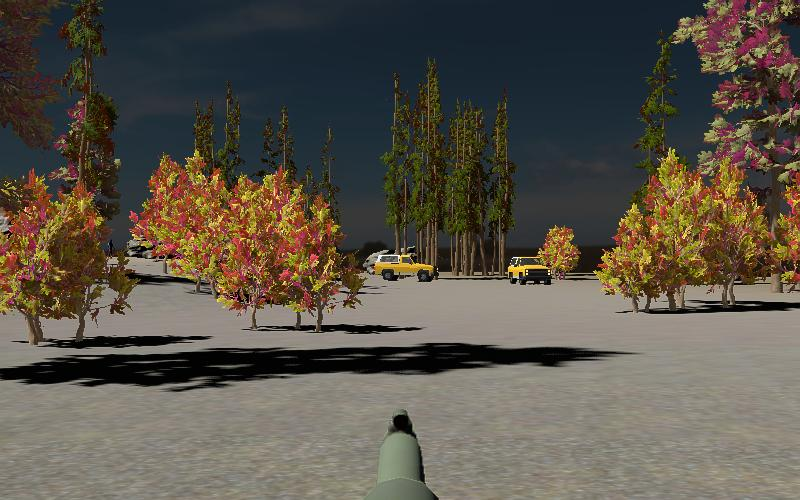car: (373, 253, 438, 282), (507, 256, 553, 287)
